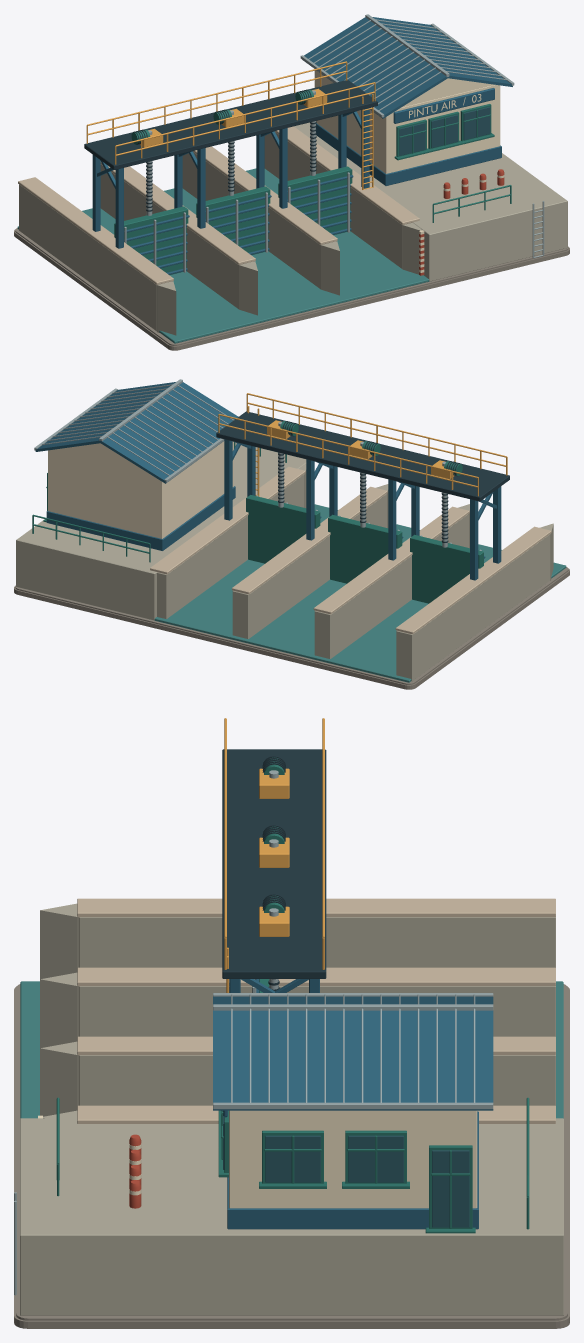
3 renders of one model, top to bottom at view 1: azimuth 30°, elevation 25°; view 2: azimuth 150°, elevation 25°; view 3: azimuth 270°, elevation 25°, orthographic. The views are drawn at different scales.
Parts seen in each view (by area): view 1: Canal Civil Works, Control House, Screw Hoist Gantry, Lift Gates; view 2: Canal Civil Works, Control House, Screw Hoist Gantry, Lift Gates; view 3: Canal Civil Works, Control House, Screw Hoist Gantry.
Boxes of the visible parts, bbox=[...] form: Canal Civil Works: bbox=[14, 122, 569, 350]; Control House: bbox=[300, 14, 544, 258]; Screw Hoist Gantry: bbox=[84, 61, 377, 248]; Lift Gates: bbox=[114, 166, 353, 275]; Canal Civil Works: bbox=[14, 442, 569, 689]; Control House: bbox=[32, 379, 286, 562]; Screw Hoist Gantry: bbox=[216, 393, 509, 580]; Lift Gates: bbox=[246, 495, 485, 603]; Canal Civil Works: bbox=[14, 898, 569, 1328]; Control House: bbox=[14, 993, 529, 1295]; Screw Hoist Gantry: bbox=[222, 718, 326, 992].
Bounding box in the file's own units: 23 × 8.8 × 16.
